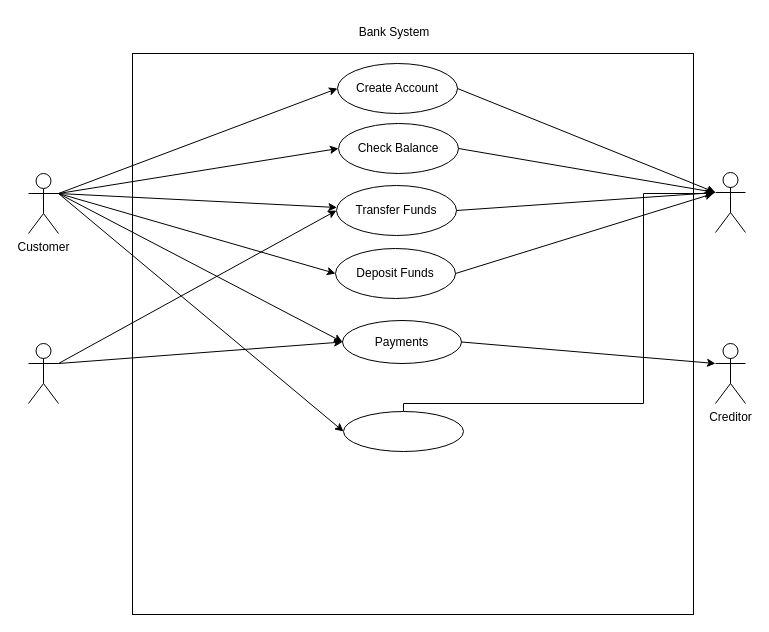
Some shapes in this 769 by 632 pixel diagram are drawn without their labels. Each missing label, with the centre of its shape:
Bank: pixel 730 202
Cashier: pixel 43 373
Withdraw money: pixel 403 431
